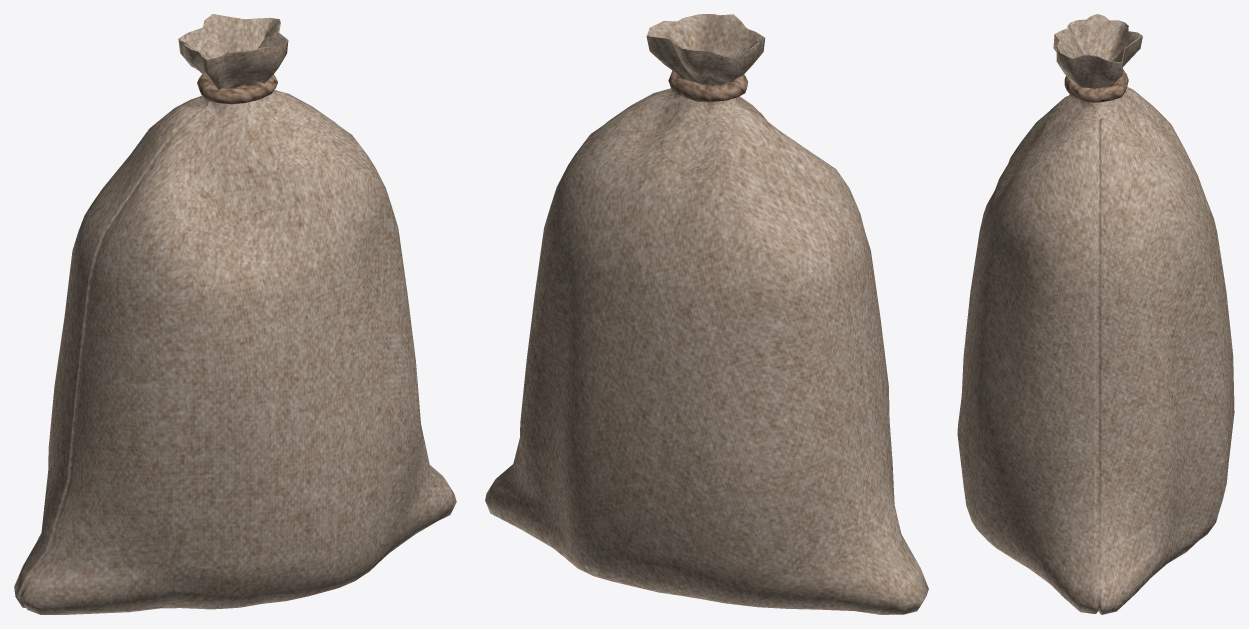
File: BolsaGranos.fbx
The picture shows the model from 3 angles, left to right: view 1: azimuth 30°, elevation 25°; view 2: azimuth 150°, elevation 25°; view 3: azimuth 270°, elevation 25°; orthographic projection. The views are drawn at different scales.
Parts seen in each view (by area): view 1: Burlapsack_LOD0; view 2: Burlapsack_LOD0; view 3: Burlapsack_LOD0.
Part boxes in pixels (box(x1,y1,x2,y2)): Burlapsack_LOD0: box(14, 14, 456, 614); Burlapsack_LOD0: box(485, 14, 928, 614); Burlapsack_LOD0: box(957, 14, 1234, 614).
Size of what is drawn, in the model's own units: 95.82 by 114 by 57.14.
